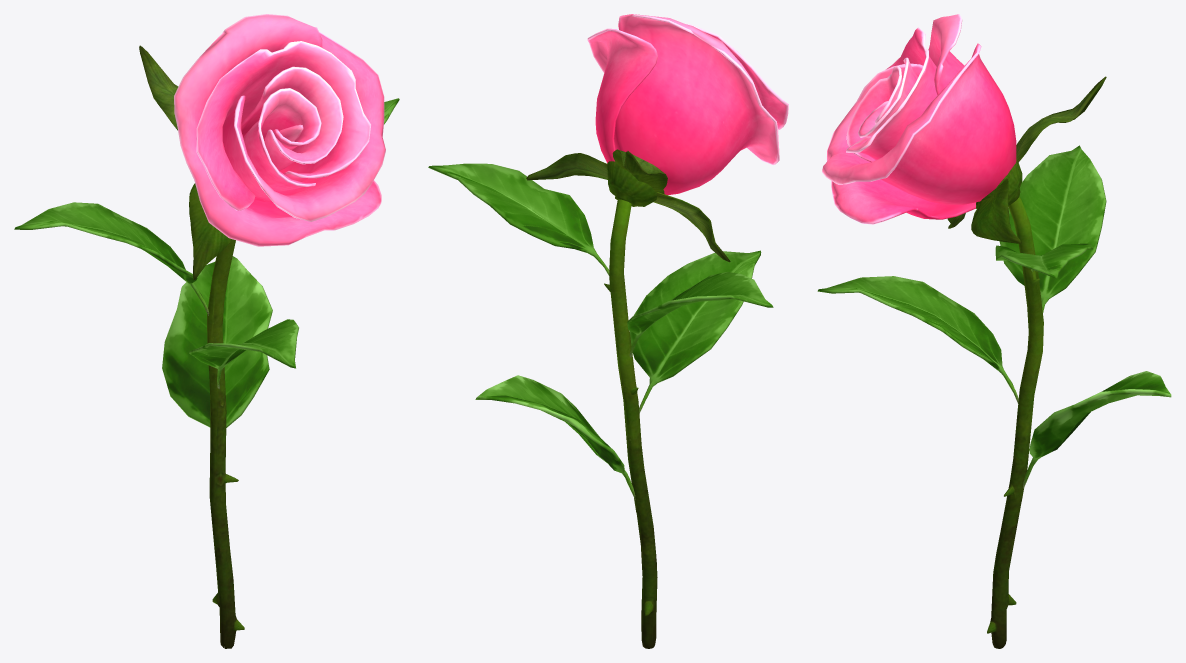
The model's file is rosa.glb.
3 views of the same model, side by side, from view 1: azimuth 30°, elevation 25°; view 2: azimuth 150°, elevation 25°; view 3: azimuth 270°, elevation 25° (orthographic). The views are drawn at different scales.
Parts seen in each view (by area): view 1: Rose; view 2: Rose; view 3: Rose.
Part boxes in pixels (<box>): Rose: <box>14,14,399,648</box>; Rose: <box>428,14,788,648</box>; Rose: <box>817,14,1171,648</box>.
Size of the model in its own units: 0.3107 by 0.5117 by 0.2613.
1 material, 1 textured.
